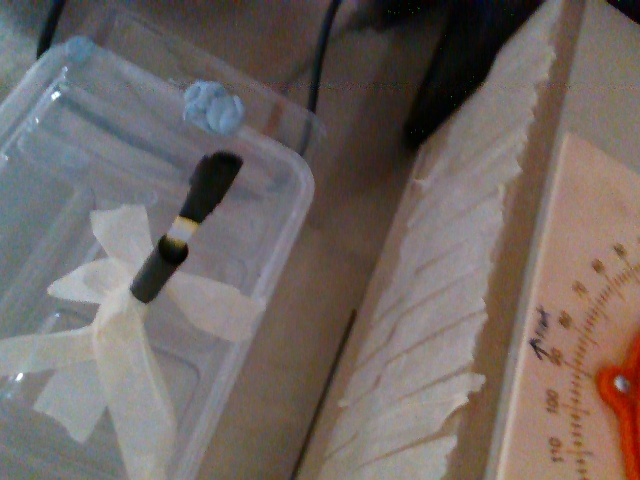test_strip: (163, 148, 240, 247)
